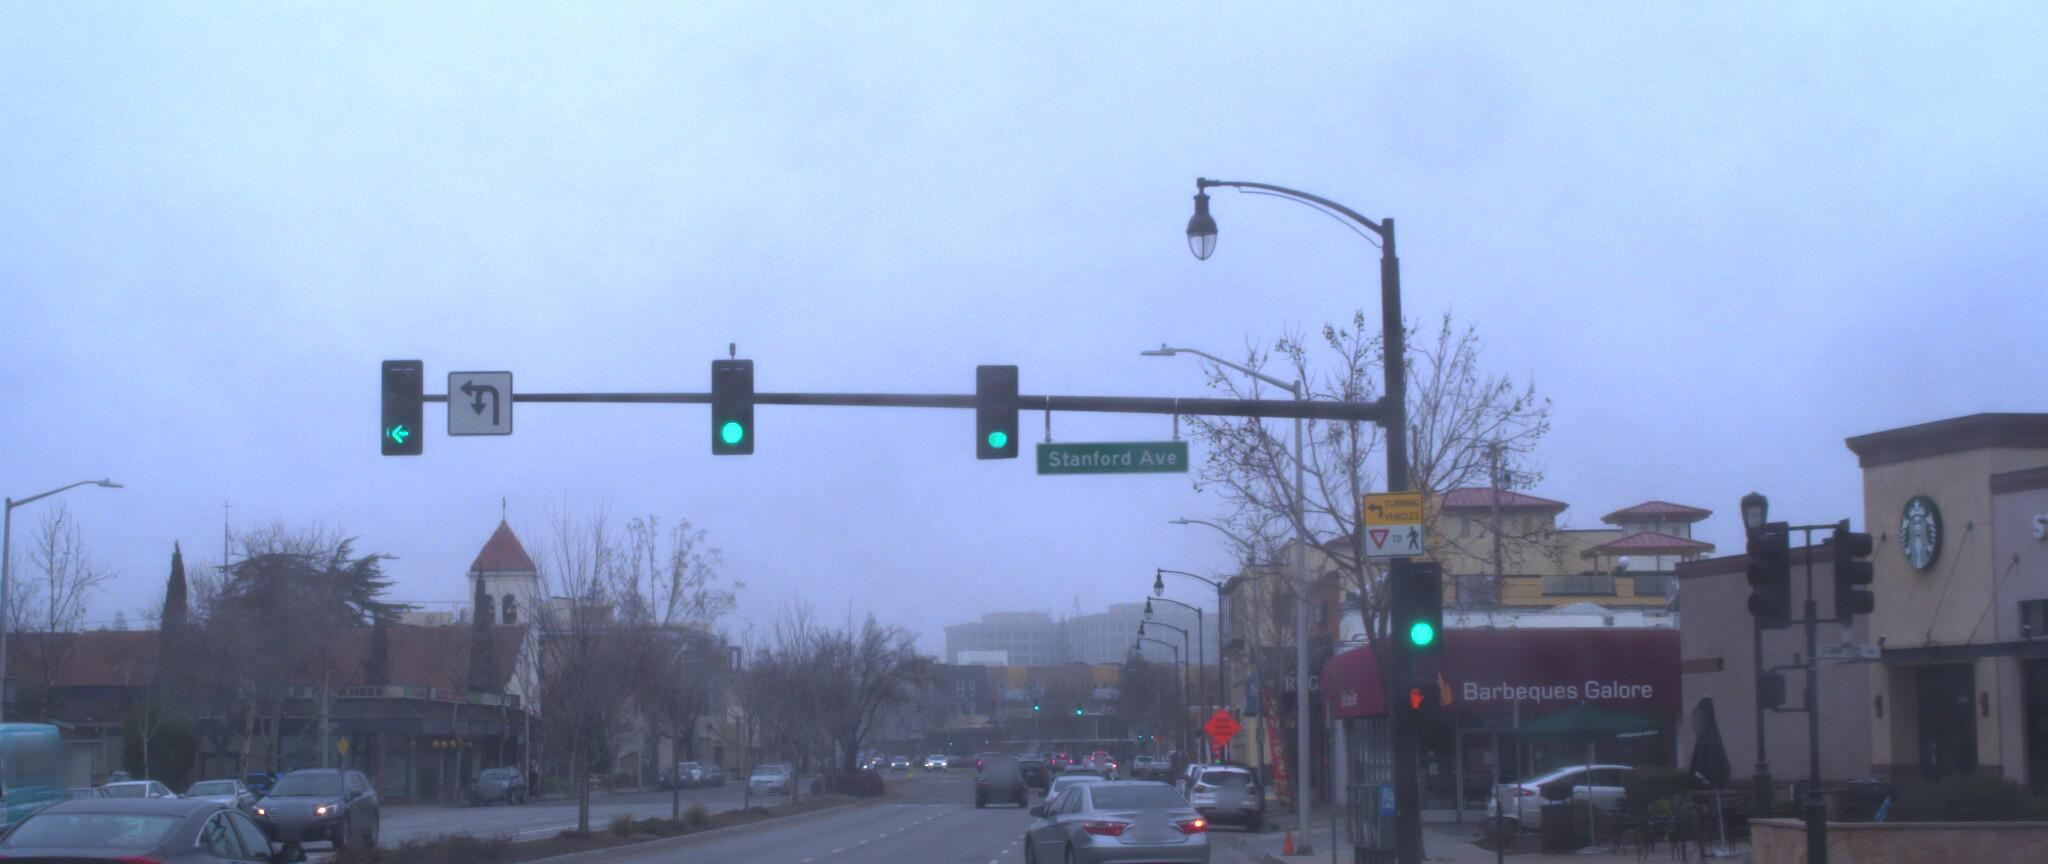car: (0, 773, 351, 864), (980, 754, 1213, 864), (1468, 760, 1741, 844), (236, 752, 385, 846), (0, 711, 81, 864), (1179, 760, 1258, 829)
